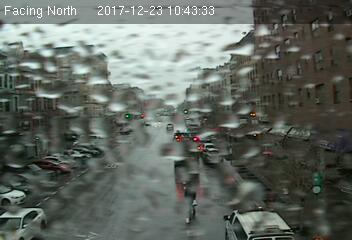car: (203, 147, 222, 165)
police: (220, 203, 295, 240)
